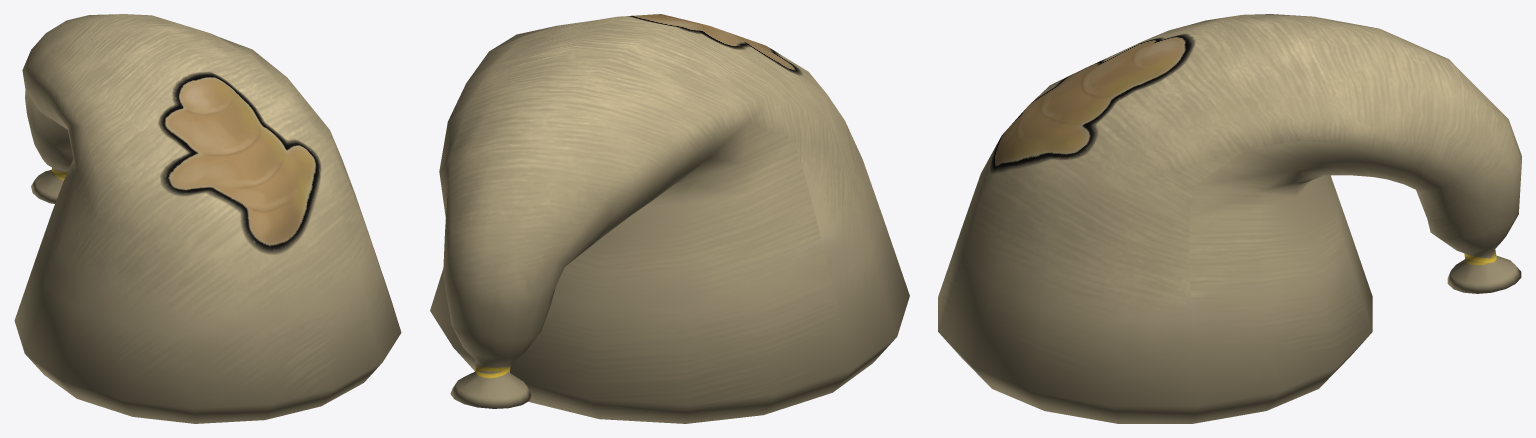
File: Model_TexturaSacoMurchoGengibre_v1.fbx
The picture shows the model from 3 angles, left to right: view 1: azimuth 30°, elevation 25°; view 2: azimuth 150°, elevation 25°; view 3: azimuth 270°, elevation 25°; orthographic projection. The views are drawn at different scales.
Visible parts, largest first — view 1: Circle.005; view 2: Circle.005; view 3: Circle.005.
Boxes of the visible parts, box(x1,y1,x2,y2) form: Circle.005: box(14, 14, 401, 423); Circle.005: box(430, 14, 909, 423); Circle.005: box(938, 14, 1521, 423).
Bounding box in the file's own units: 227 × 179 × 305.
